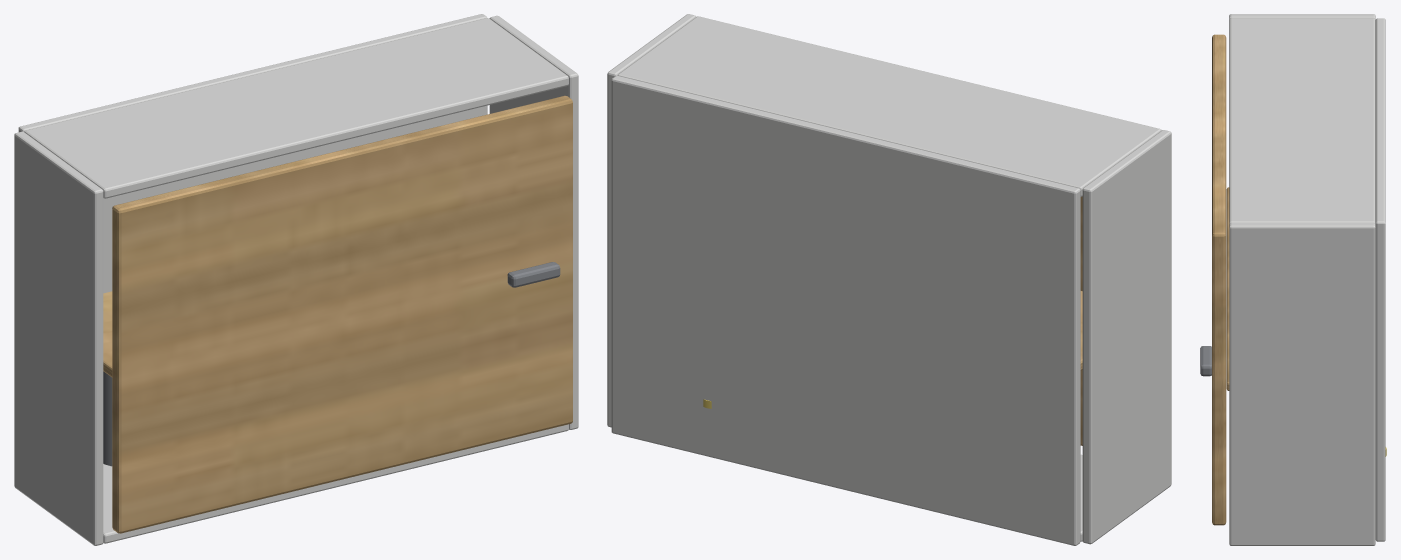
Rendered from wall_cabinet.glb.
3 views of the same model, side by side, from view 1: azimuth 30°, elevation 25°; view 2: azimuth 150°, elevation 25°; view 3: azimuth 270°, elevation 25° (orthographic). The views are drawn at different scales.
Visible parts, largest first — view 1: part_door__wall_cabinet, cab_body_top, cab_body_left, cab_body_back, cab_body_bottom, cab_body_right, soy, cab_shelf; view 2: cab_body_back, cab_body_top, cab_body_left, cab_body_right; view 3: cab_body_right, cab_body_top, part_door__wall_cabinet, cab_body_back, cab_shelf, cab_body_left.
Part boxes in pixels (<box>): part_door__wall_cabinet: <box>112,95,572,533</box>; cab_body_top: <box>24,18,568,198</box>; cab_body_left: <box>14,131,103,545</box>; cab_body_back: <box>18,14,487,293</box>; cab_body_bottom: <box>103,424,568,543</box>; cab_body_right: <box>489,15,578,429</box>; soy: <box>103,371,112,466</box>; cab_shelf: <box>103,291,112,377</box>; cab_body_back: <box>611,75,1080,545</box>; cab_body_top: <box>617,16,1161,196</box>; cab_body_left: <box>1082,130,1171,544</box>; cab_body_right: <box>607,14,696,427</box>; cab_body_right: <box>1229,223,1375,545</box>; cab_body_top: <box>1229,18,1375,224</box>; part_door__wall_cabinet: <box>1200,34,1226,525</box>; cab_body_back: <box>1375,18,1385,541</box>; cab_shelf: <box>1226,187,1229,390</box>; cab_body_left: <box>1229,14,1375,19</box>.
Bounding box in the file's own units: 1 × 0.7 × 0.3695.
8 materials, 2 textured.
